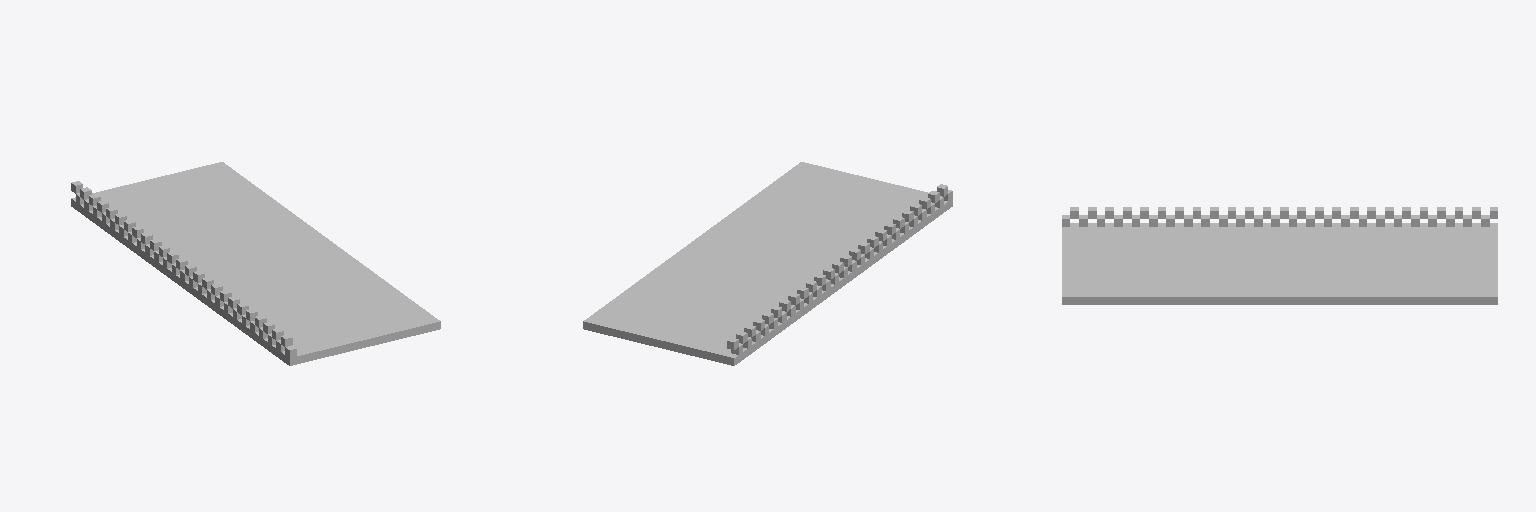
The model's file is terraFence.obj.
3 renders of one model, left to right at view 1: azimuth 30°, elevation 25°; view 2: azimuth 150°, elevation 25°; view 3: azimuth 270°, elevation 25°, orthographic.
Bounding box in the file's own units: 20 × 3 × 50.